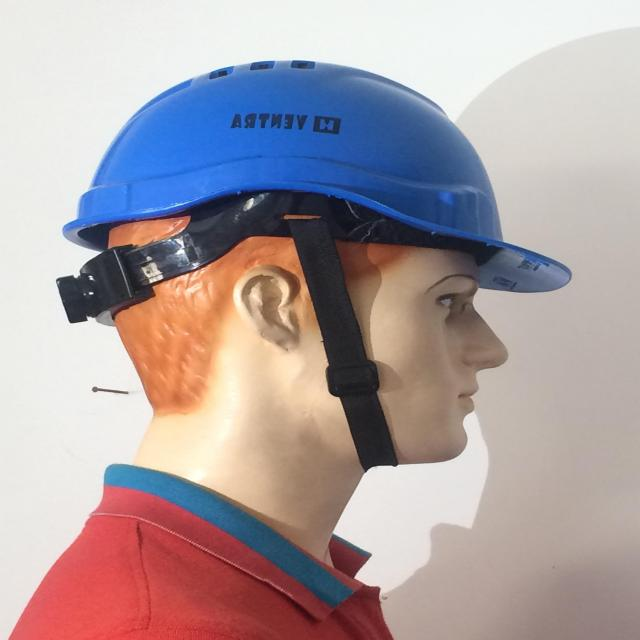Safety-Helmet: (59, 57, 573, 290)
